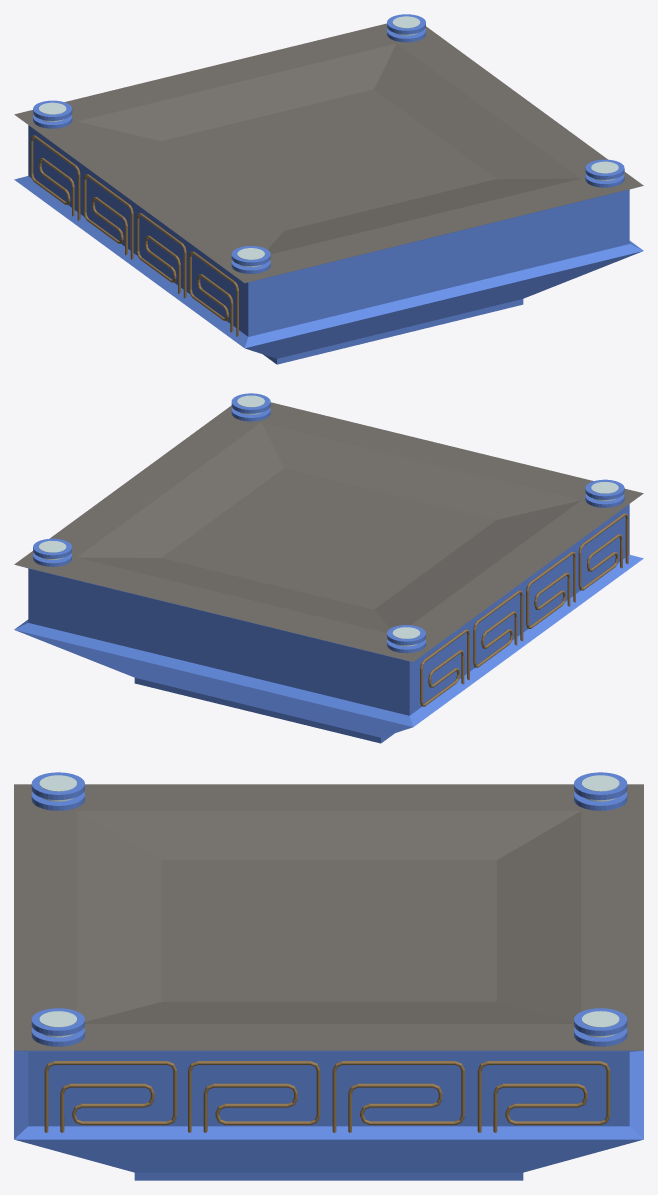
The model's file is Square Platform.glb.
3 views of the same model, one above another, from view 1: azimuth 30°, elevation 25°; view 2: azimuth 150°, elevation 25°; view 3: azimuth 270°, elevation 25° (orthographic). The views are drawn at different scales.
Visible parts, largest first — view 1: Lid, Center, Base.001, Plane, Plane.001, Plane.002, Plane.003; view 2: Lid, Center, Base.001, Plane.003, Plane.001, Plane, Plane.002; view 3: Lid, Center, Base.001, Plane.007, Plane.005, Plane.006, Plane.004, Light.004, Light.008, Light.002, Light.006.
Part boxes in pixels (x1,y1,x2,y2): Lid: [14, 23, 643, 283]; Center: [14, 125, 643, 348]; Base.001: [245, 251, 642, 364]; Plane: [30, 135, 80, 220]; Plane.001: [83, 174, 133, 259]; Plane.002: [136, 213, 186, 298]; Plane.003: [189, 251, 238, 336]; Lid: [14, 402, 643, 661]; Center: [14, 504, 643, 727]; Base.001: [15, 630, 412, 743]; Plane.003: [578, 513, 628, 590]; Plane.001: [473, 590, 523, 667]; Plane: [420, 629, 469, 706]; Plane.002: [526, 552, 575, 628]; Lid: [14, 784, 643, 1050]; Center: [14, 1050, 643, 1139]; Base.001: [15, 1139, 642, 1180]; Plane.007: [477, 1061, 610, 1132]; Plane.005: [188, 1061, 320, 1132]; Plane.006: [44, 1061, 176, 1132]; Plane.004: [332, 1061, 464, 1132]; Light.004: [31, 1008, 84, 1035]; Light.008: [574, 1008, 627, 1035]; Light.002: [31, 772, 84, 799]; Light.006: [574, 772, 627, 799].
Size of the model in its own units: 2 by 0.6914 by 2.
